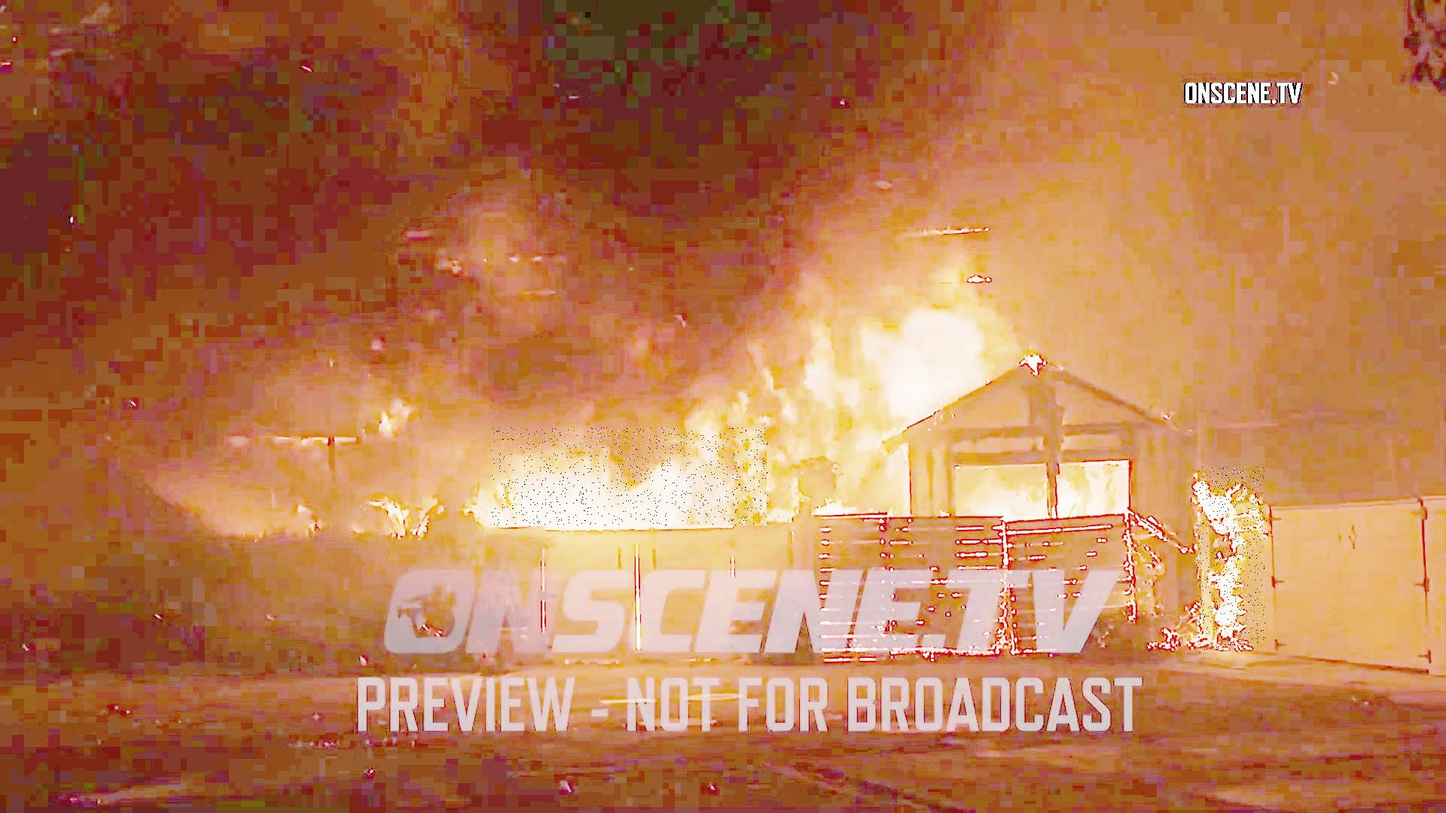fire: (492, 428, 769, 526), (1198, 467, 1266, 651)
